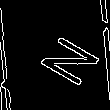N_NW: (17, 24, 93, 86)
